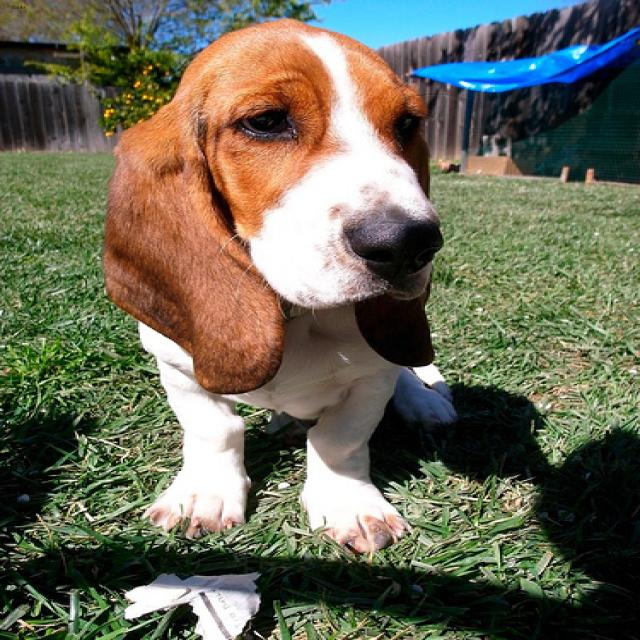dog-basset_hound: (87, 13, 471, 563)
